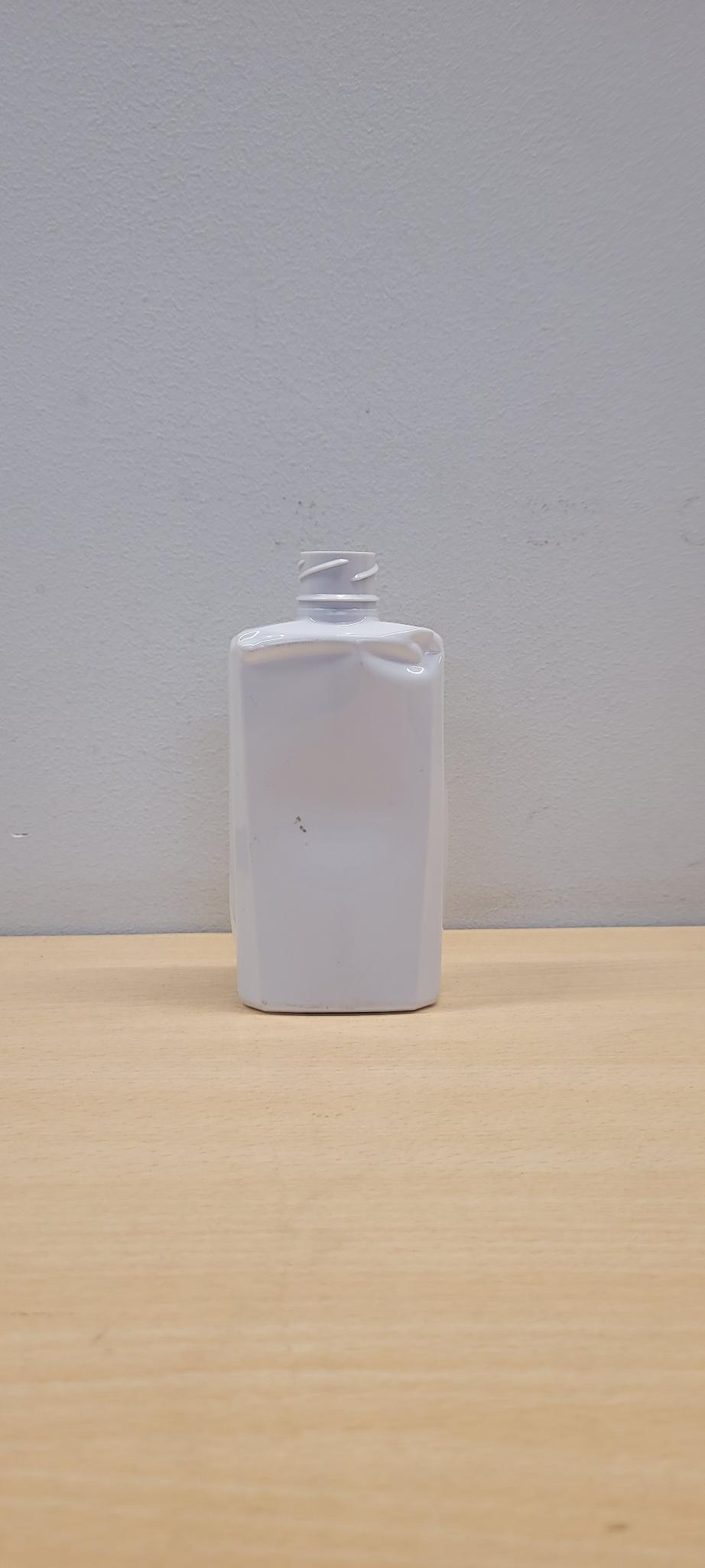bottle: (230, 549, 445, 1013)
